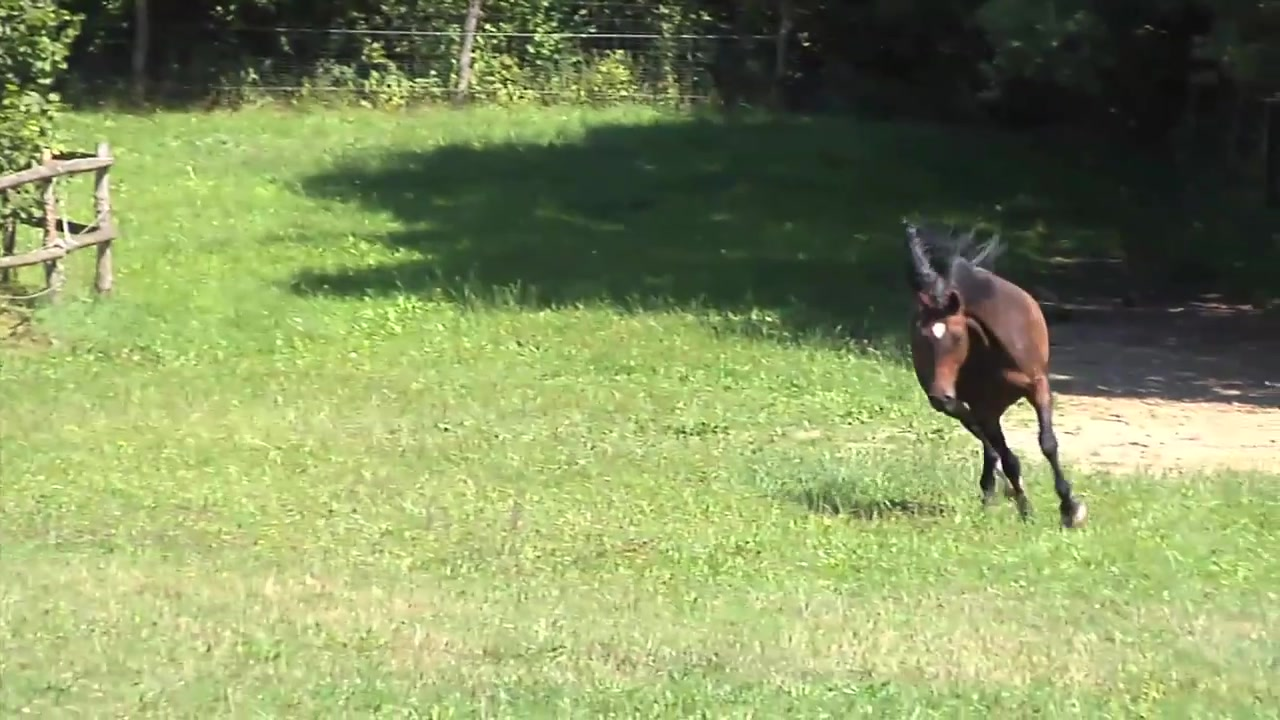horse: (895, 219, 1094, 534)
